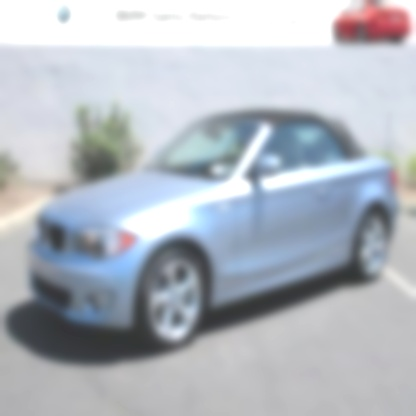Vehicle: (28, 112, 400, 350)
